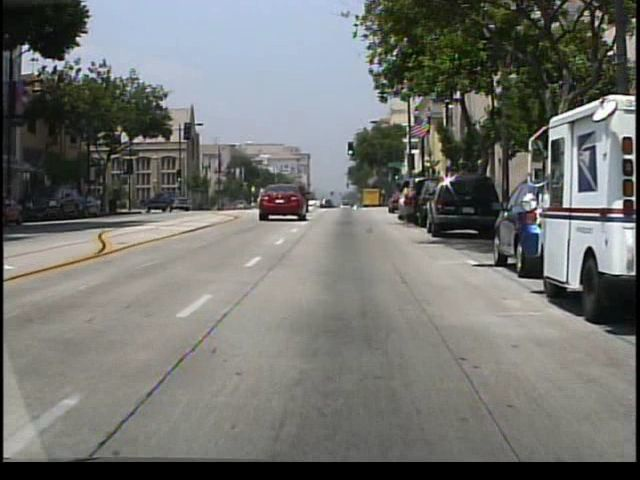person: (393, 179, 415, 226)
